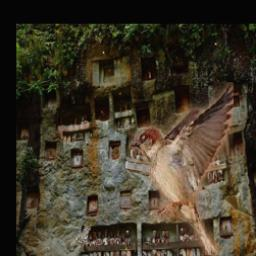Sparrow: (130, 83, 235, 256), (70, 226, 91, 253)
